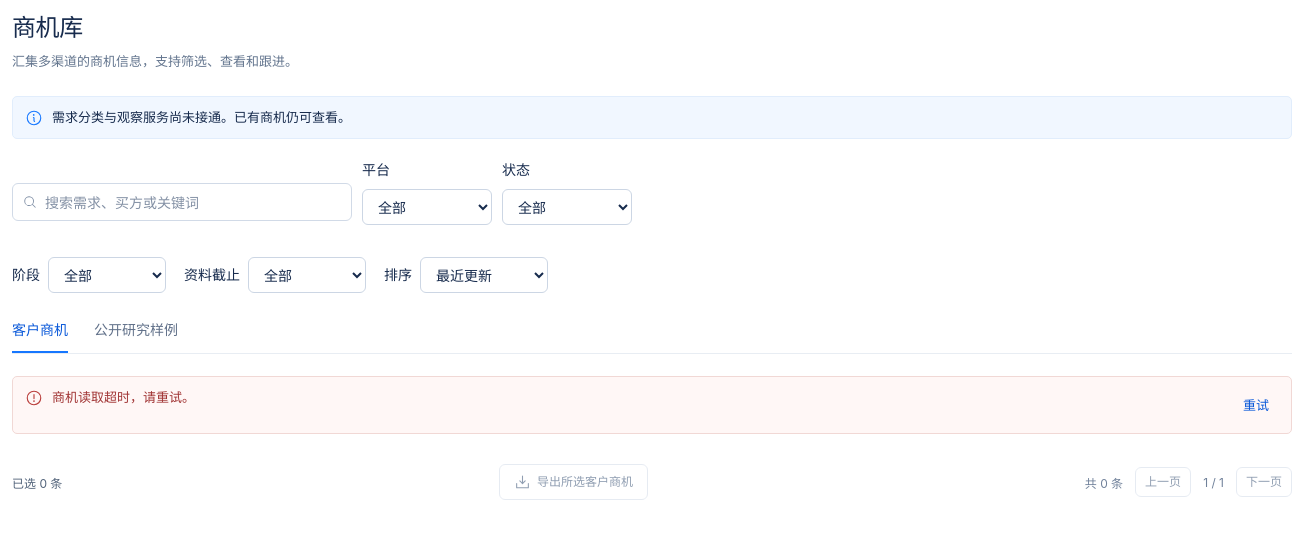
Test: P10 library columns and interactive filters › bounds a hanging list and ignores a late response after retry
expect the text "商机读取超时，请重试。" is shown: met, box top-left (52, 389), bottom-right (195, 405)
Click the button "重试": [1256, 405] box top-left (1233, 387), bottom-right (1279, 423)
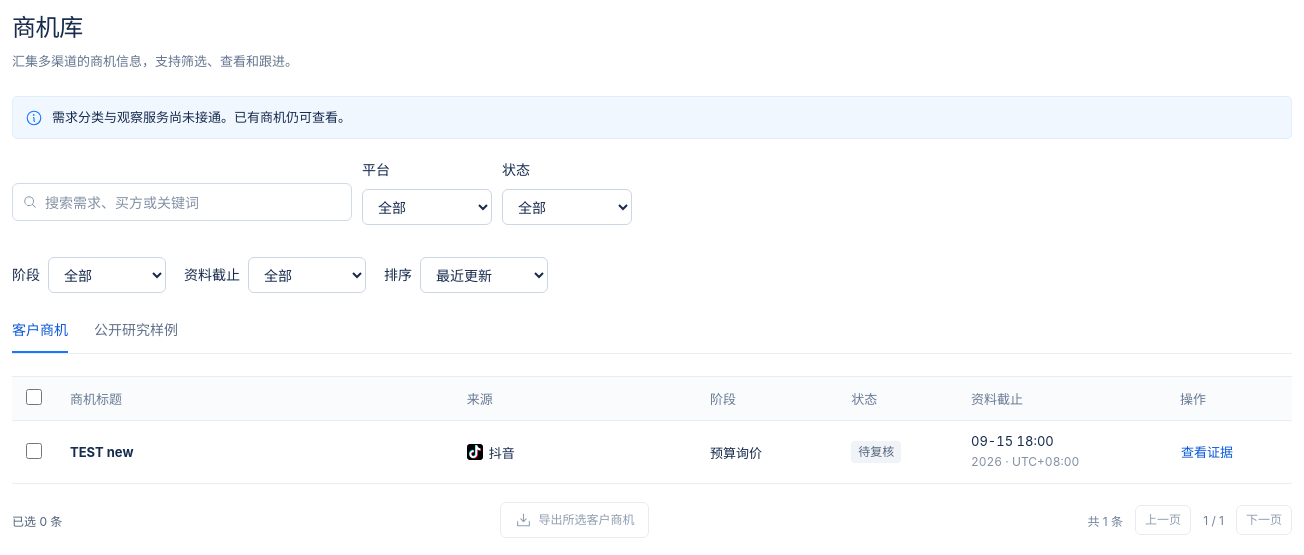
expect the text "TEST new" is shown: met, box top-left (70, 444), bottom-right (134, 460)
